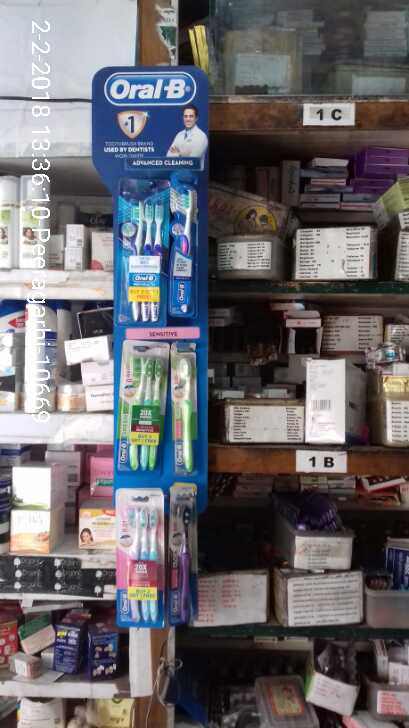oralb: (117, 178, 167, 326), (119, 340, 168, 472), (119, 487, 163, 629), (169, 169, 200, 313), (170, 479, 198, 626), (171, 343, 198, 476)
